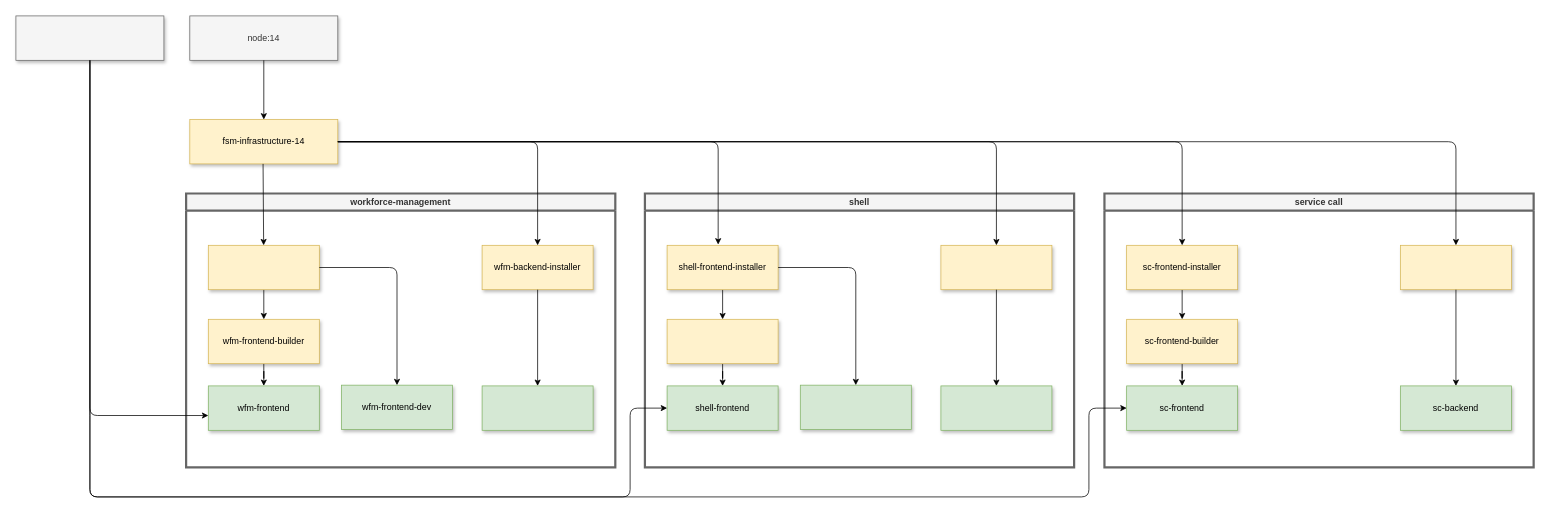
This 1547x516 diagram has some shape labels left out. The shapes that lost their labels are listed below. From the top down, each one's centre as x and y in pixels, then its label:
the point at 90,38: nginx:alpine
the point at 264,268: wfm-frontend-installer
the point at 996,268: shell-backend-installer
the point at 1456,268: sc-backend-installer
the point at 723,342: shell-frontend-builder
the point at 538,408: wfm-backend
the point at 856,408: shell-frontend-dev
the point at 996,408: shell-backend
